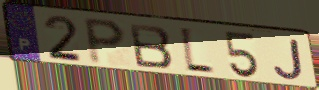2: (42, 14, 84, 65)
5: (222, 30, 260, 80)
B: (127, 21, 175, 70)
J: (272, 37, 306, 82)
L: (177, 25, 217, 77)
P: (82, 15, 129, 67)
